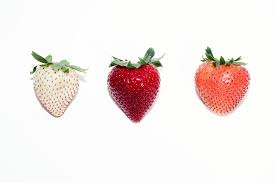strawberry: (107, 54, 160, 126)
